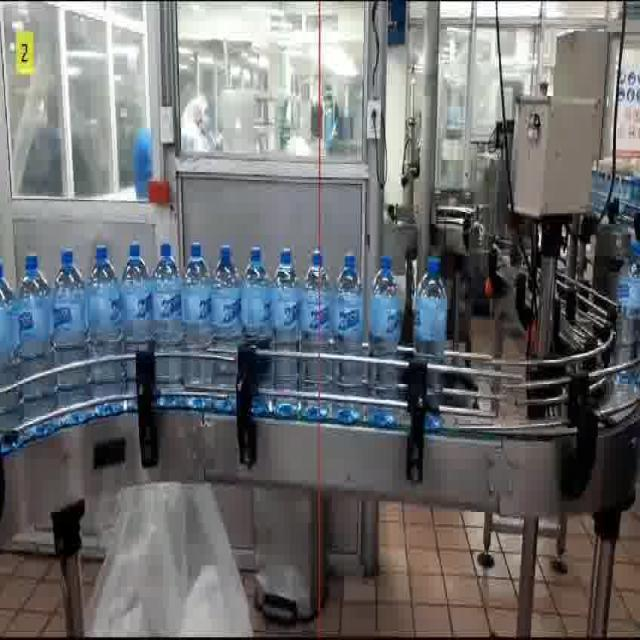bottle: (298, 244, 339, 441), (367, 249, 413, 424), (334, 247, 374, 431), (410, 254, 449, 431), (48, 246, 88, 350), (148, 239, 183, 346), (180, 240, 213, 348), (119, 239, 152, 344), (208, 243, 242, 342), (239, 244, 273, 342)
